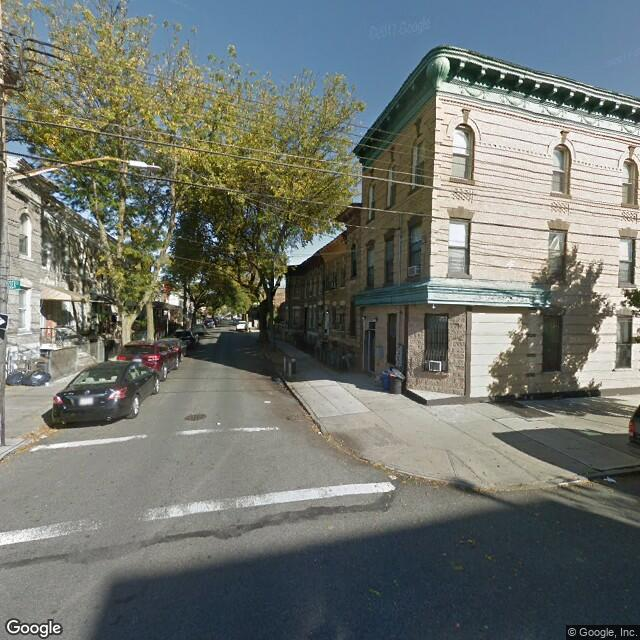litter: (36, 433, 49, 442), (260, 400, 272, 407), (385, 475, 401, 480), (605, 477, 616, 483), (316, 428, 322, 439)
